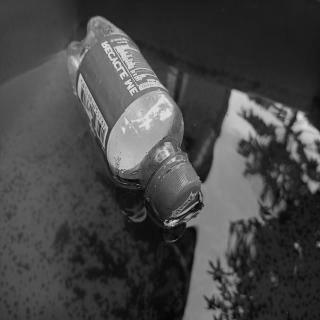bottle: (66, 16, 202, 223)
